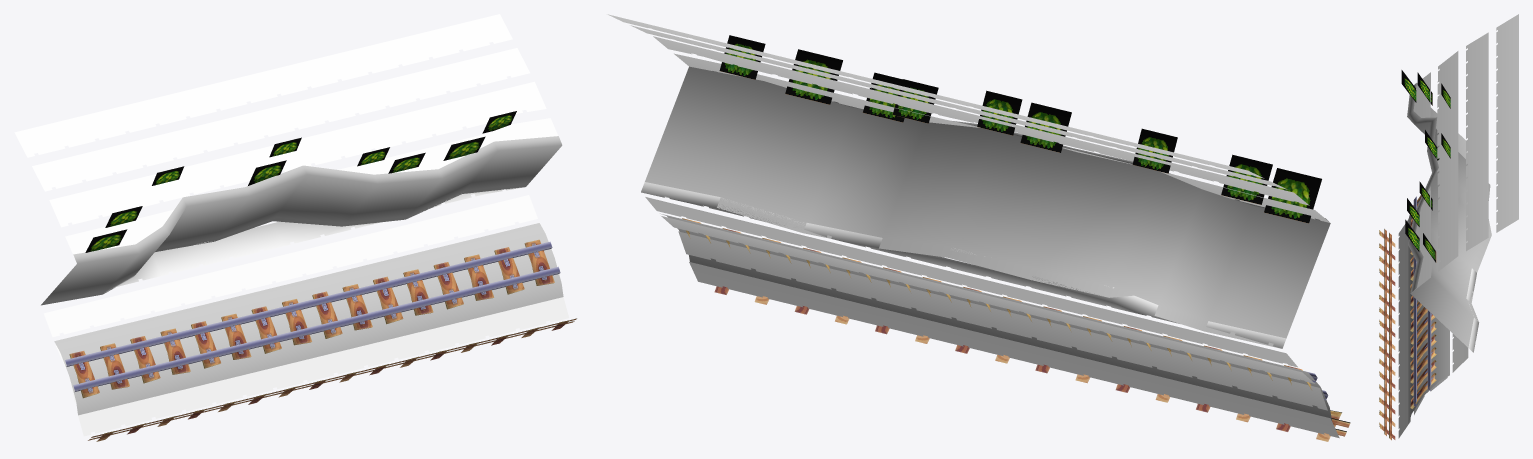
The model's file is grd_En_0.dae.
3 views of the same model, side by side, from view 1: azimuth 30°, elevation 25°; view 2: azimuth 150°, elevation 25°; view 3: azimuth 270°, elevation 25° (orthographic). The views are drawn at different scales.
Parts seen in each view (by area): view 1: vsn_mesh_2_, vsn_mesh_3_, vsn_mesh_0_, vsn_mesh_1_; view 2: vsn_mesh_1_, vsn_mesh_2_, vsn_mesh_0_, vsn_mesh_3_; view 3: vsn_mesh_2_, vsn_mesh_1_, vsn_mesh_0_, vsn_mesh_3_.
Boxes of the visible parts, left/top/right/bottom form: vsn_mesh_2_: left=14, top=14, right=568, bottom=436; vsn_mesh_3_: left=54, top=223, right=563, bottom=415; vsn_mesh_0_: left=65, top=111, right=576, bottom=441; vsn_mesh_1_: left=41, top=136, right=562, bottom=305; vsn_mesh_1_: left=645, top=66, right=1330, bottom=348; vsn_mesh_2_: left=607, top=14, right=1339, bottom=438; vsn_mesh_0_: left=682, top=35, right=1350, bottom=441; vsn_mesh_3_: left=660, top=213, right=1331, bottom=420; vsn_mesh_2_: left=1398, top=14, right=1518, bottom=438; vsn_mesh_1_: left=1407, top=83, right=1491, bottom=347; vsn_mesh_0_: left=1379, top=70, right=1450, bottom=440; vsn_mesh_3_: left=1408, top=195, right=1449, bottom=423.
Size of the model in its own units: 512 by 262 by 147.
